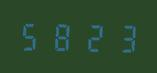eight: (48, 19, 77, 52)
five: (18, 18, 47, 52)
three: (108, 20, 137, 54)
two: (78, 20, 107, 53)
